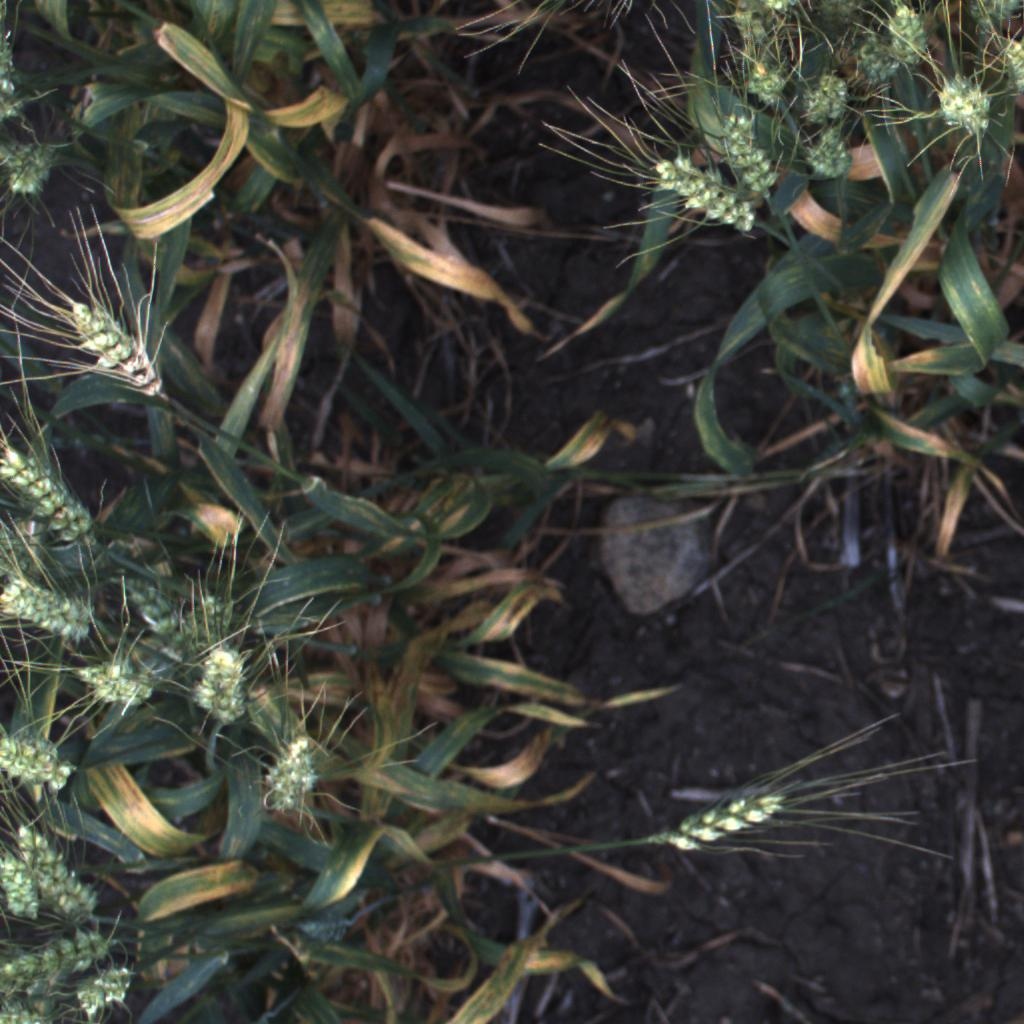0-0: (0, 424, 116, 571), (51, 282, 181, 406), (637, 146, 766, 248), (9, 806, 108, 929), (651, 782, 799, 860), (0, 565, 116, 652), (0, 918, 128, 992), (711, 107, 786, 208), (58, 653, 163, 719), (258, 728, 328, 823), (0, 725, 84, 800), (0, 842, 55, 942), (70, 954, 144, 1024), (931, 68, 997, 141), (796, 124, 865, 185), (733, 54, 800, 115), (794, 68, 860, 129), (169, 601, 217, 681), (885, 0, 939, 71), (203, 650, 253, 724), (124, 580, 178, 638), (0, 153, 64, 200), (287, 905, 354, 948), (730, 0, 799, 41), (1, 128, 60, 173), (982, 32, 1024, 91), (848, 41, 900, 84)
